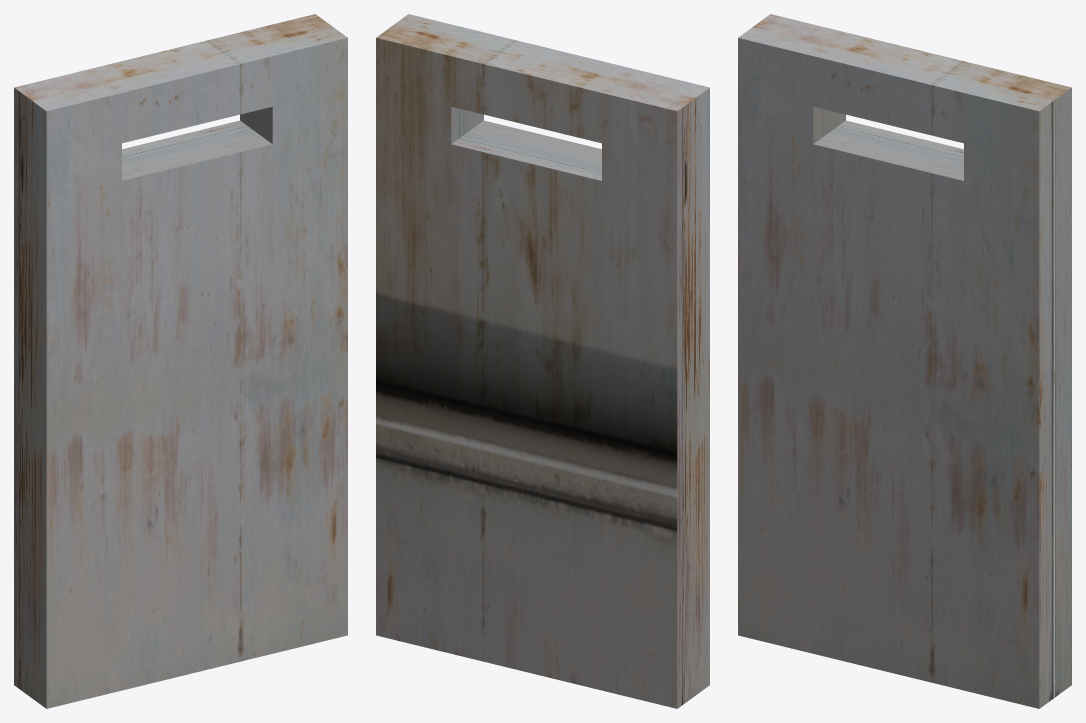
The model's file is door.fbx.
3 renders of one model, left to right at view 1: azimuth 30°, elevation 25°; view 2: azimuth 150°, elevation 25°; view 3: azimuth 330°, elevation 25°, orthographic.
Visible parts, largest first — view 1: Cube.001; view 2: Cube.001; view 3: Cube.001.
Boxes of the visible parts, x1,y1,x2,y2 form: Cube.001: (14,14,347,708); Cube.001: (376,14,709,708); Cube.001: (738,14,1071,708).
Size of the model in its own units: 69.89 by 132 by 13.08.
